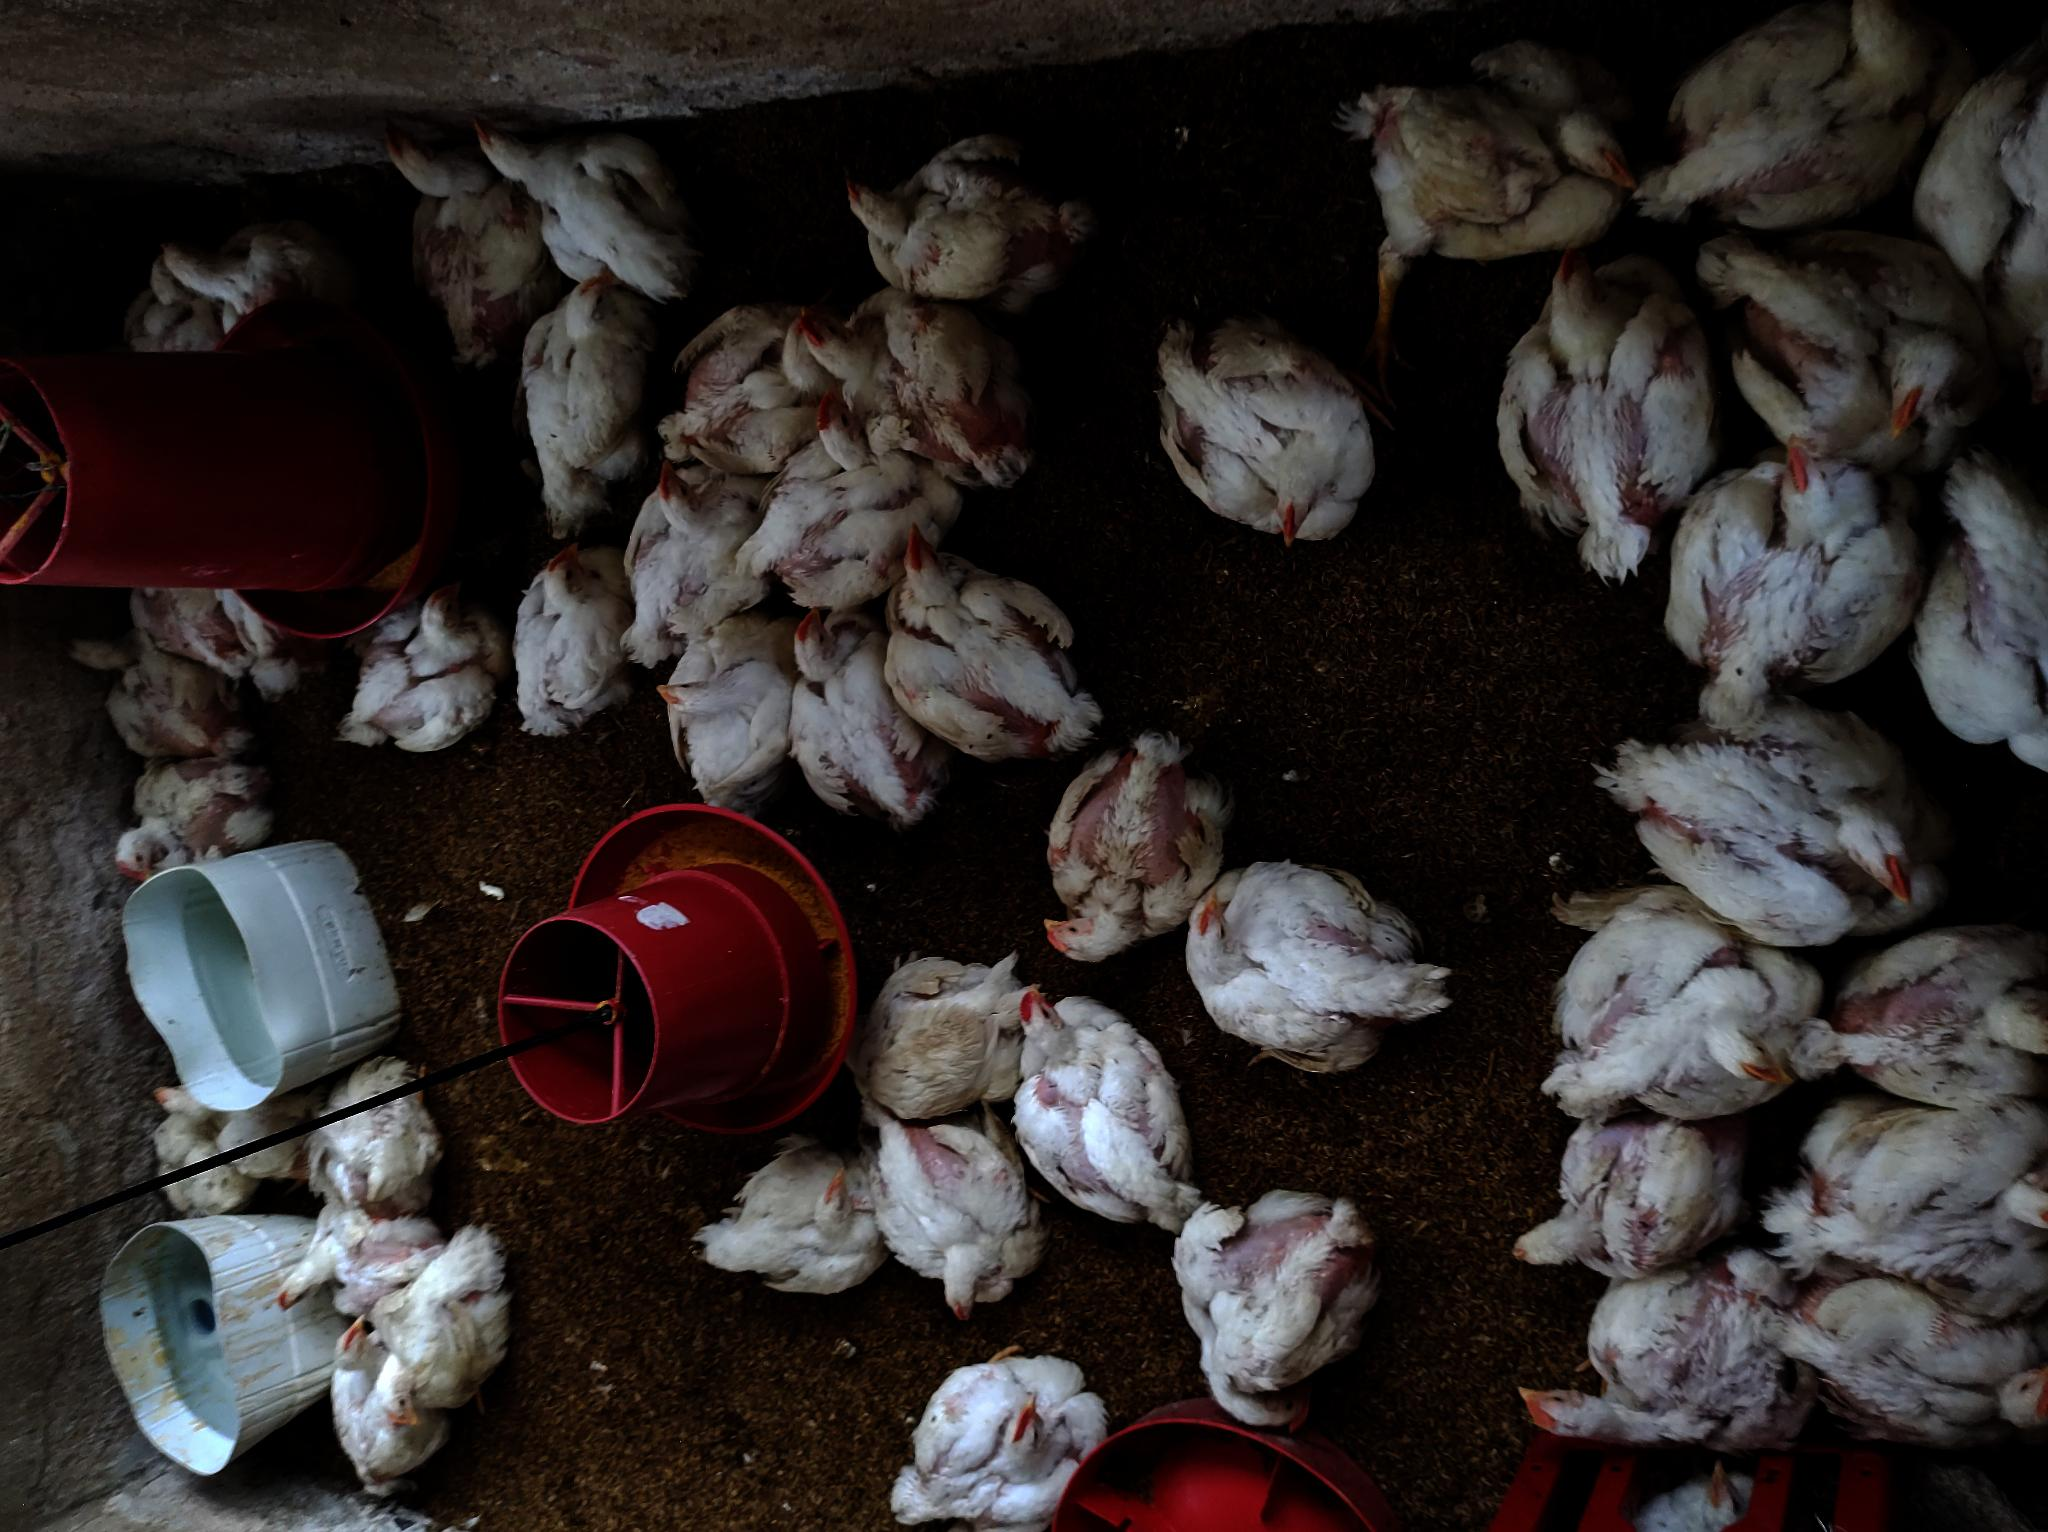Pollos: (1602, 697, 1947, 954), (1618, 3, 1955, 235), (1660, 430, 1911, 735), (1482, 251, 1718, 570), (1356, 42, 1646, 266), (1541, 888, 1813, 1115), (1491, 1252, 1792, 1455), (1768, 1260, 2046, 1474), (1141, 322, 1384, 558), (1182, 856, 1450, 1070), (1738, 235, 1988, 462), (1157, 1192, 1388, 1427), (882, 512, 1100, 752), (1034, 706, 1228, 967), (467, 108, 718, 299), (829, 127, 1097, 306), (1791, 930, 2048, 1115), (1775, 1110, 2048, 1275), (812, 280, 1030, 486), (746, 396, 956, 608), (877, 1340, 1112, 1527), (1507, 1110, 1757, 1286), (1018, 986, 1187, 1229), (376, 119, 541, 357), (1924, 42, 2048, 352), (1924, 492, 2048, 768), (877, 1114, 1038, 1324), (520, 262, 644, 525), (783, 608, 927, 826), (368, 1220, 512, 1434), (692, 1143, 890, 1295), (624, 460, 767, 669), (652, 612, 803, 809), (866, 957, 1038, 1122), (335, 591, 504, 756), (660, 285, 809, 470), (51, 640, 265, 761), (507, 537, 631, 740), (113, 737, 265, 893), (272, 1183, 442, 1315), (298, 1059, 450, 1200), (331, 1308, 434, 1501), (129, 591, 315, 694), (162, 233, 320, 335), (158, 1091, 249, 1212), (117, 257, 224, 354), (1643, 1460, 1754, 1529)
